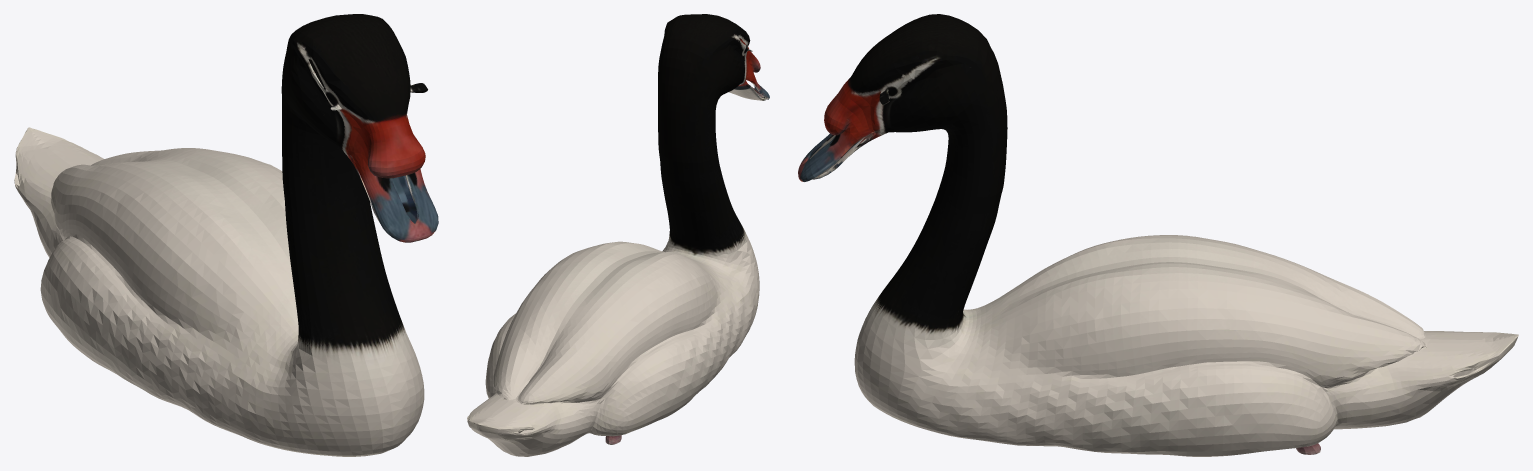
Rendered from O-cisne-cuello-negro.glb.
The picture shows the model from 3 angles, left to right: view 1: azimuth 30°, elevation 25°; view 2: azimuth 150°, elevation 25°; view 3: azimuth 270°, elevation 25°; orthographic projection. The views are drawn at different scales.
Visible parts, largest first — view 1: tripo_node_e862a97f-7d2c-42a5-a359-39d41f3a5afe; view 2: tripo_node_e862a97f-7d2c-42a5-a359-39d41f3a5afe; view 3: tripo_node_e862a97f-7d2c-42a5-a359-39d41f3a5afe.
Part boxes in pixels (x1,y1,x2,y2): tripo_node_e862a97f-7d2c-42a5-a359-39d41f3a5afe: [14, 14, 438, 456]; tripo_node_e862a97f-7d2c-42a5-a359-39d41f3a5afe: [467, 14, 769, 456]; tripo_node_e862a97f-7d2c-42a5-a359-39d41f3a5afe: [798, 14, 1518, 456].
Bounding box in the file's own units: 0.376 × 0.6001 × 0.9995.
1 material, 1 textured.
